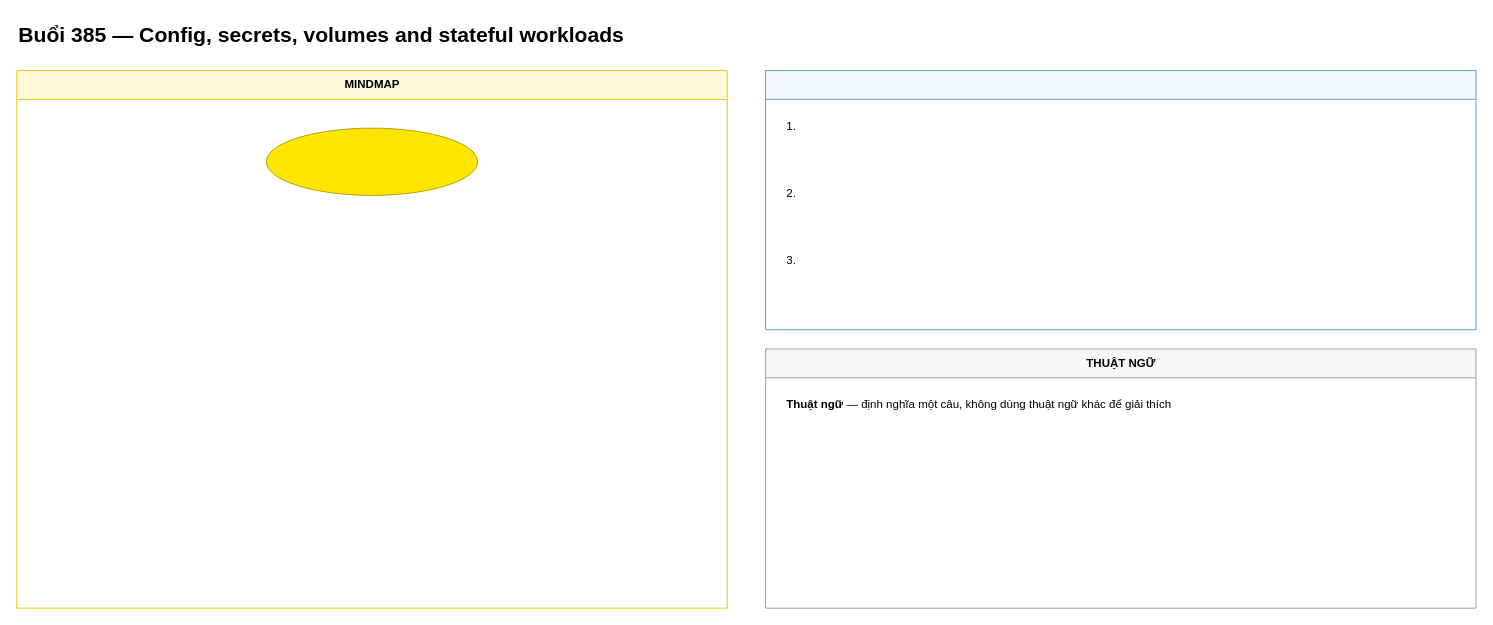
This 1493x625 diagram has some shape labels left out. The shapes that lost their labels are listed below. From the top down, each one's box as (x1, y1, x2, y2) in pixels, then its label:
(265, 127, 478, 195): Config, secrets, volumes and stateful workloads
(765, 70, 1476, 330): KEY TAKEAWAY — ba điều phải nhớ
